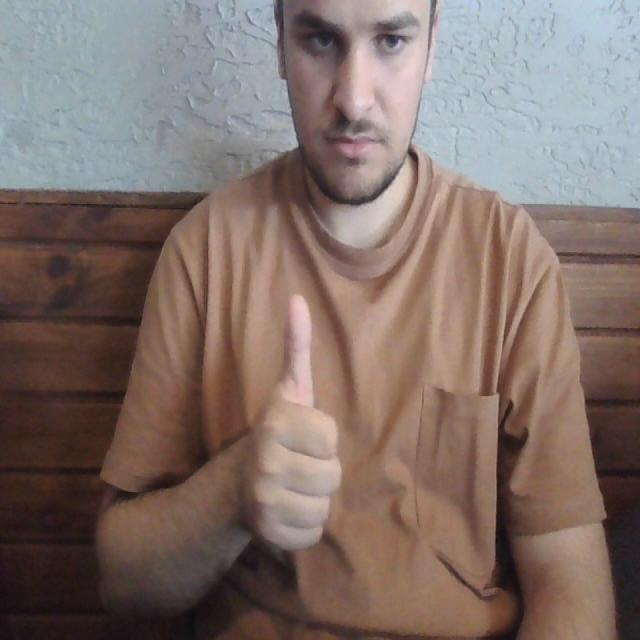Tamam: (232, 287, 346, 564)
